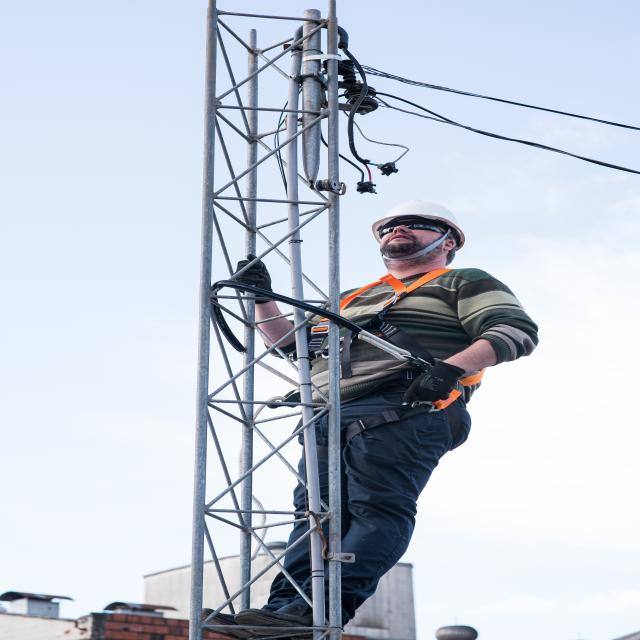botas: (231, 589, 357, 640), (228, 253, 276, 308)
capacete: (370, 198, 467, 252)
corda de vida: (286, 263, 488, 461)
luva: (393, 358, 471, 408)
